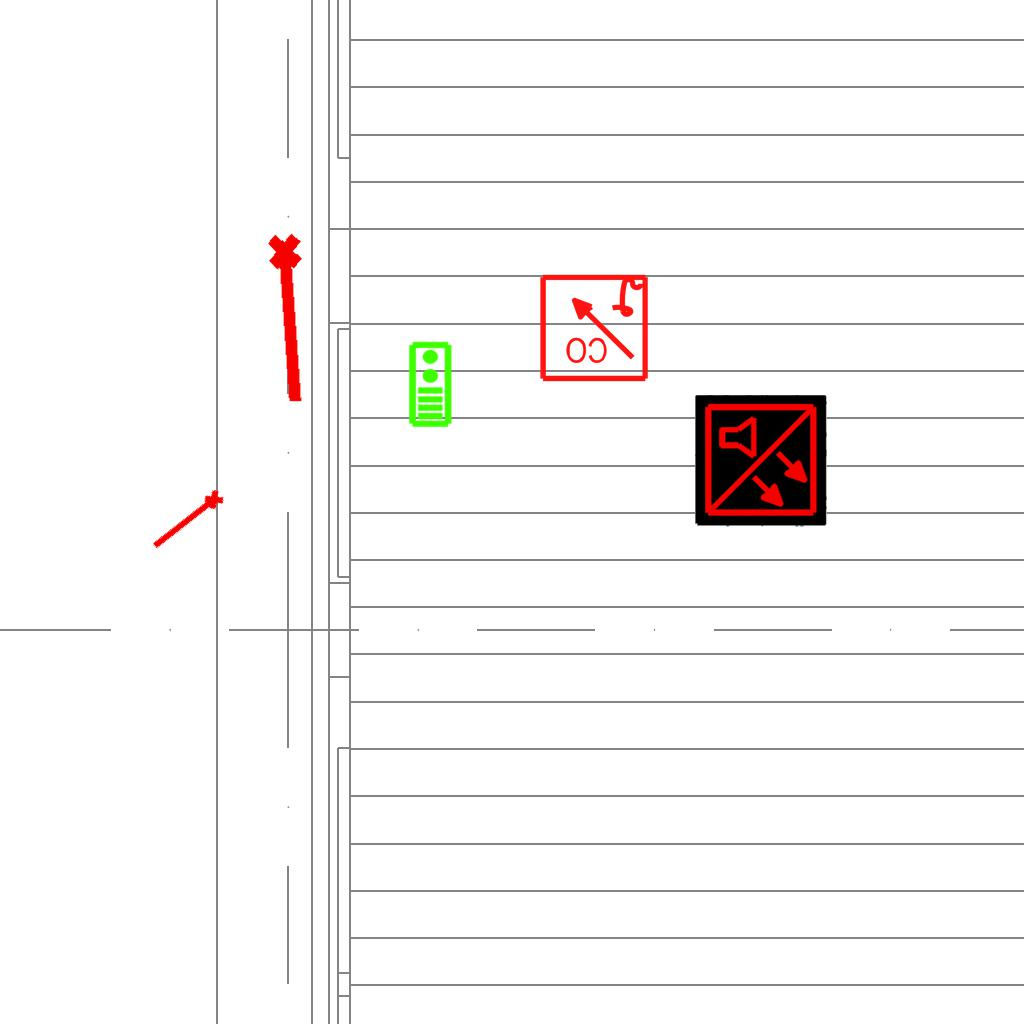ASR_Ansaugoeffnung: (262, 229, 322, 409), (146, 485, 230, 558)
Gegensprechanlage_mit_Video: (406, 340, 453, 428)
OKW_Multisensormelder_(Kombination_optischer_Rauch-Kahlenmonoxid_Waerme-Melder): (695, 395, 827, 527)
ROA_Rauchmelder_optisch_mit_Signalgeber_(Sockelsirene): (537, 270, 650, 383)
